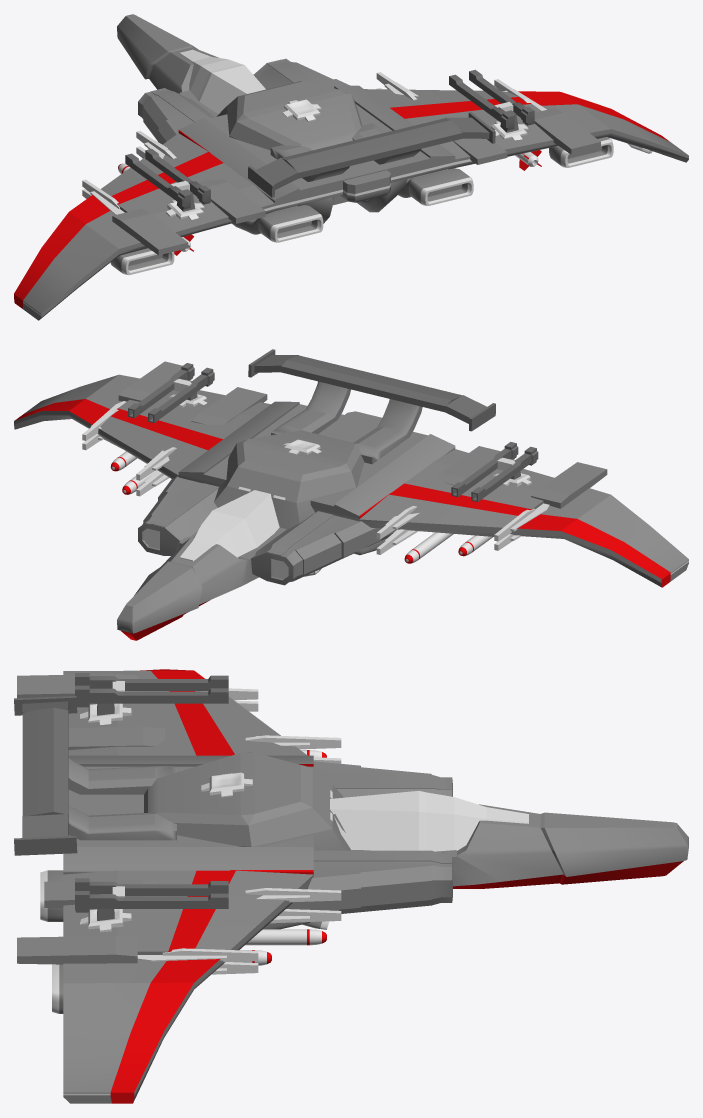
The model's file is Variant20.fbx.
3 views of the same model, one above another, from view 1: azimuth 30°, elevation 25°; view 2: azimuth 150°, elevation 25°; view 3: azimuth 270°, elevation 25° (orthographic). The views are drawn at different scales.
Visible parts, largest first — view 1: Wing_Unit, Cube.024, Cube.069, engine_vaccum_intake_coolers, Cube.070, Cube.029, Cube.031, Cube.028, Cube.048, Cube.049, Cube.064, Cube.030 (+6 smaller); view 2: Wing_Unit, engine_vaccum_intake_coolers, Cube.069, Cube.070, Cube.018, Cube.001, Cube.029, Cube.030, Cube.031, Cube.028, Cube.064, Cube.049 (+6 smaller); view 3: Wing_Unit, engine_vaccum_intake_coolers, Cube.070, Cube.069, Cube.031, Cube.001, Cube.018, Cube.065, Cube.061, Cube.028, Cube.049, Cube.064 (+10 smaller).
Part boxes in pixels (left/top/right/bottom): Wing_Unit: left=14, top=14, right=688, bottom=320; Cube.024: left=110, top=137, right=613, bottom=275; Cube.069: left=248, top=112, right=495, bottom=197; engine_vaccum_intake_coolers: left=138, top=58, right=349, bottom=144; Cube.070: left=179, top=49, right=265, bottom=114; Cube.029: left=112, top=208, right=188, bottom=255; Cube.031: left=534, top=108, right=600, bottom=154; Cube.028: left=198, top=179, right=265, bottom=223; Cube.048: left=340, top=170, right=390, bottom=202; Cube.049: left=449, top=74, right=514, bottom=130; Cube.064: left=125, top=153, right=190, bottom=209; Cube.030: left=453, top=138, right=507, bottom=164; Wing_Unit: left=14, top=374, right=688, bottom=640; engine_vaccum_intake_coolers: left=138, top=476, right=396, bottom=585; Cube.069: left=248, top=349, right=495, bottom=431; Cube.070: left=179, top=490, right=279, bottom=561; Cube.018: left=353, top=399, right=422, bottom=464; Cube.001: left=271, top=381, right=350, bottom=435; Cube.029: left=531, top=462, right=607, bottom=508; Cube.030: left=191, top=387, right=267, bottom=424; Cube.031: left=118, top=361, right=182, bottom=401; Cube.028: left=436, top=446, right=500, bottom=485; Cube.064: left=471, top=446, right=538, bottom=501; Cube.049: left=148, top=367, right=214, bottom=422; Wing_Unit: left=63, top=669, right=688, bottom=1103; engine_vaccum_intake_coolers: left=286, top=761, right=452, bottom=913; Cube.070: left=330, top=791, right=528, bottom=851; Cube.069: left=14, top=696, right=77, bottom=855; Cube.031: left=17, top=935, right=137, bottom=964; Cube.001: left=68, top=804, right=176, bottom=840; Cube.018: left=68, top=757, right=176, bottom=794; Cube.065: left=75, top=685, right=228, bottom=707; Cube.061: left=75, top=891, right=228, bottom=912; Cube.028: left=68, top=726, right=164, bottom=749; Cube.049: left=75, top=878, right=228, bottom=896; Cube.064: left=75, top=673, right=228, bottom=690.
Size of the model in its own units: 5604 by 984 by 3889.
